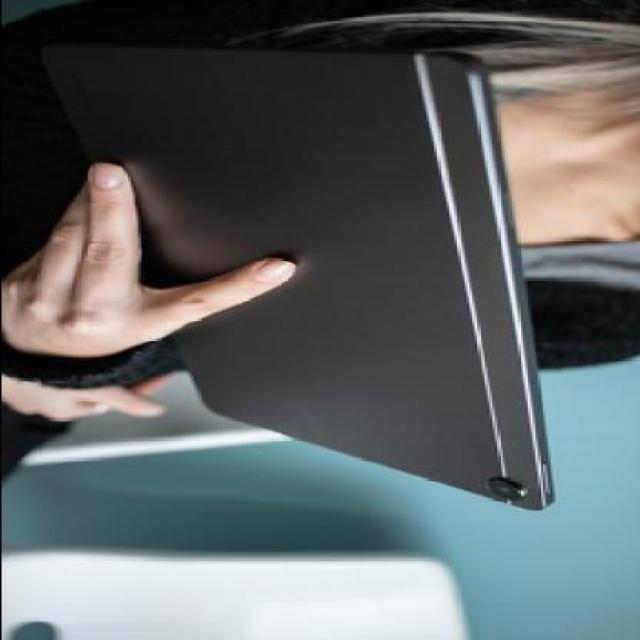tablet: (26, 17, 610, 562)
